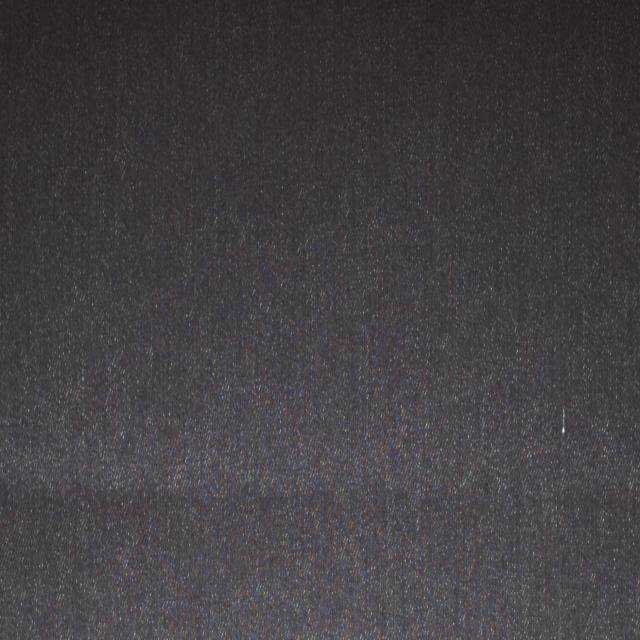Knot: (563, 408, 566, 436)
